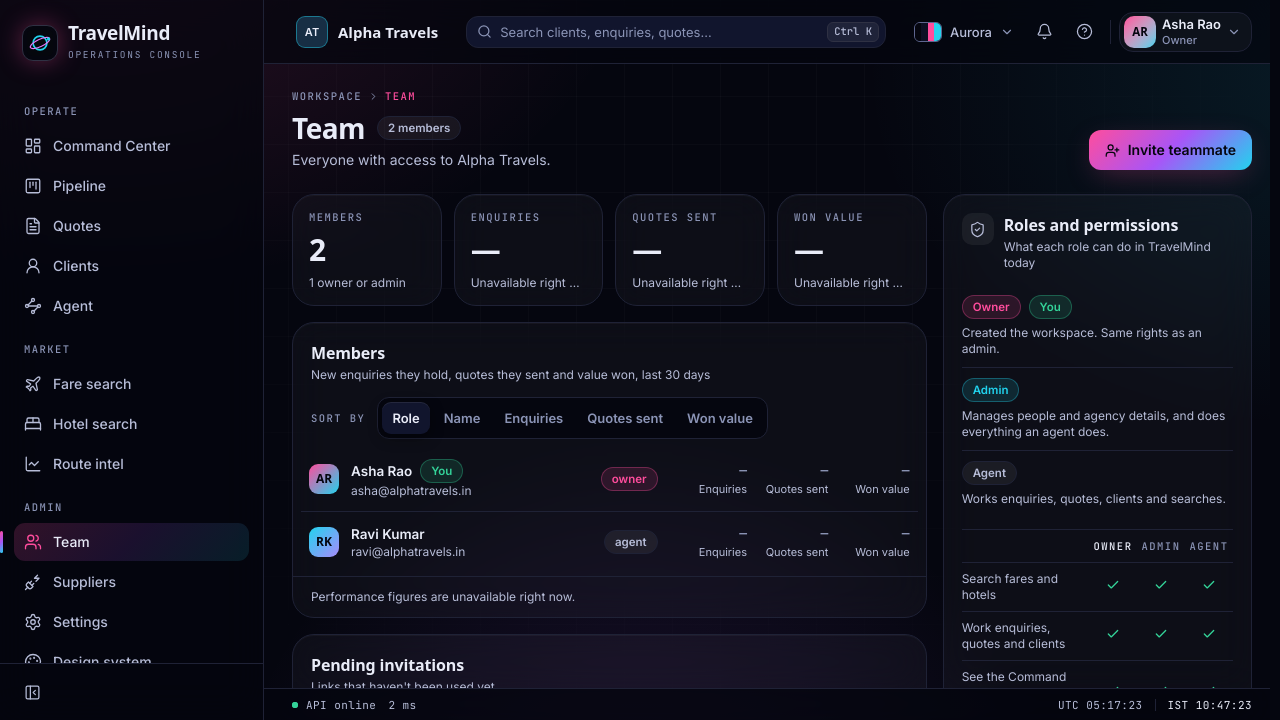
Test: a role error, which has no inline slot, is shown as a general message
This screenshot has width=1280, height=720.
Click the button "Invite teammate": (1170, 150) [1089,130,1252,170]
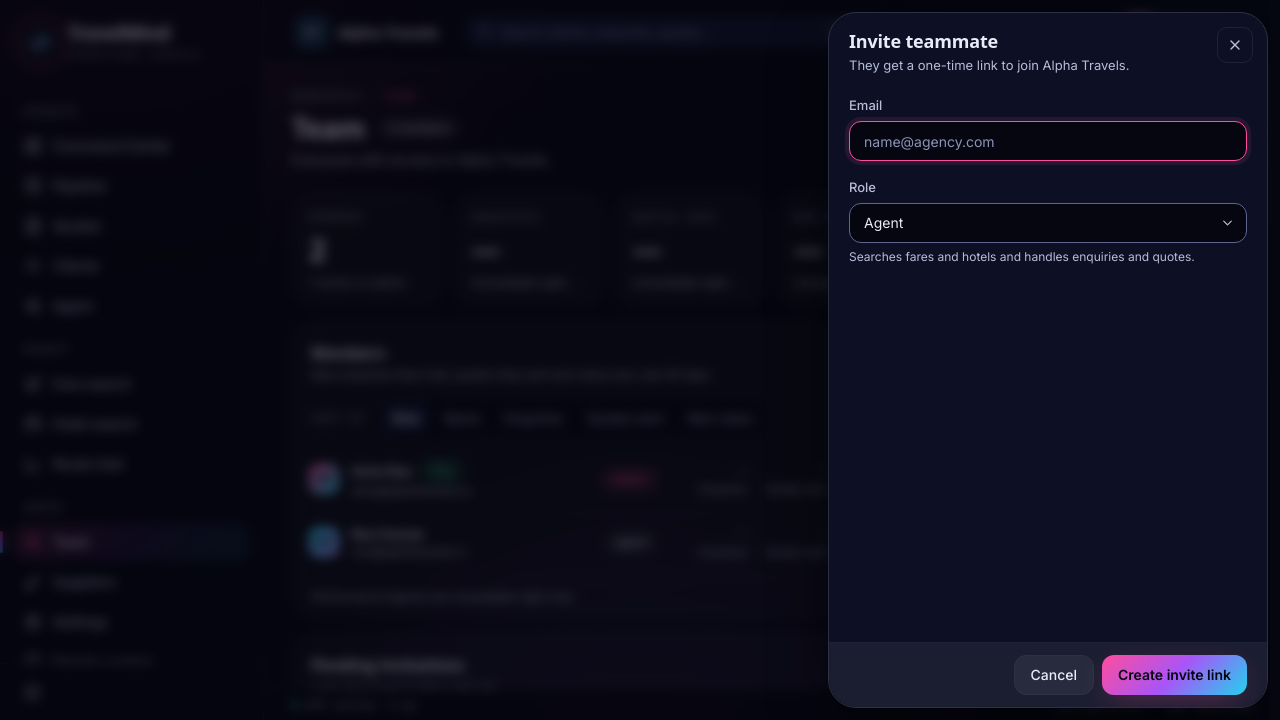
Expected: the dialog "Invite teammate" is shown, [828,12,1268,708]
In the field labelled "Email": (1048, 141) [849,121,1247,161], type "neha@alphatravels.in"
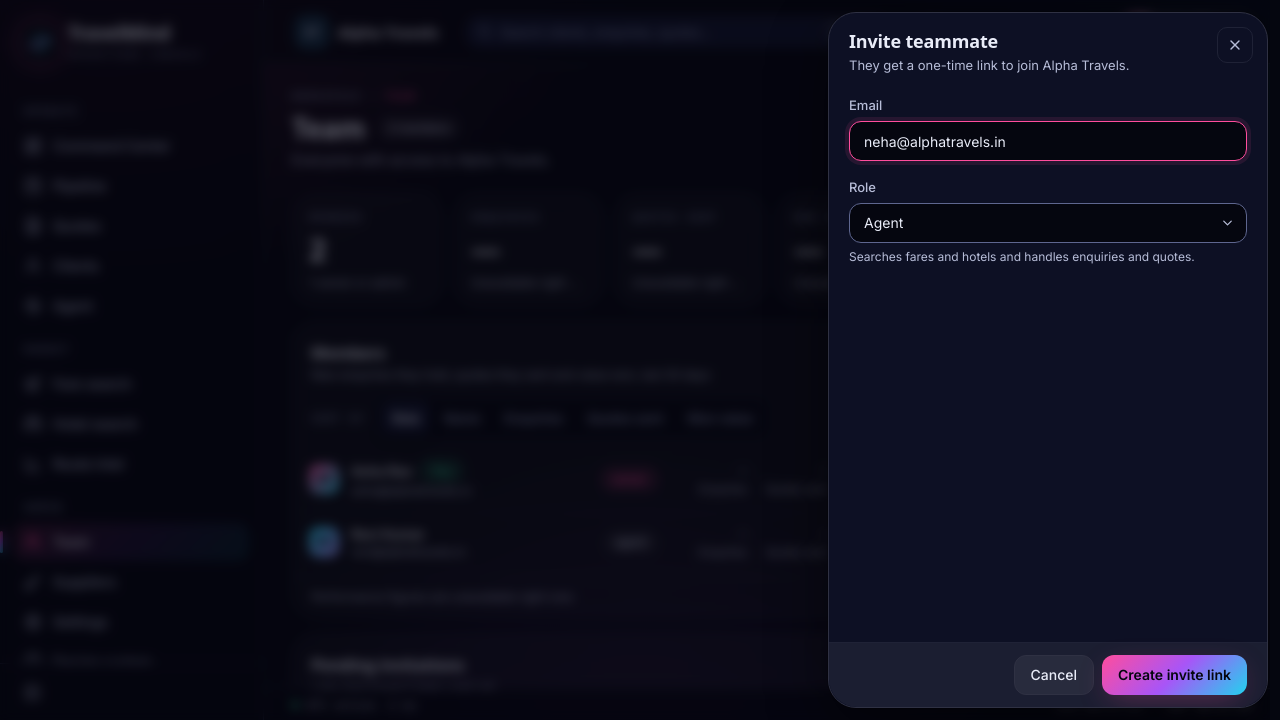
Click the button "Create invite link": (1174, 675) [1102,655,1247,695]
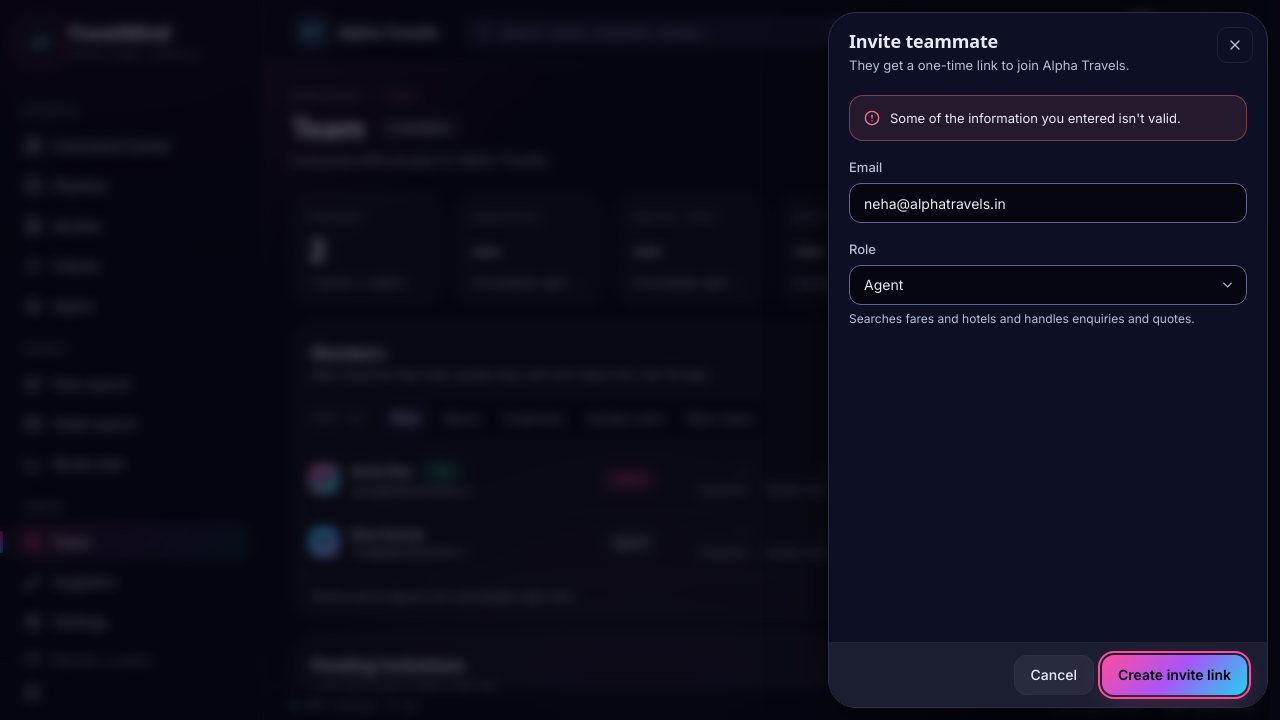
Expected: the message reads "Some of the information you entered isn't valid.", [890,110,1181,126]
